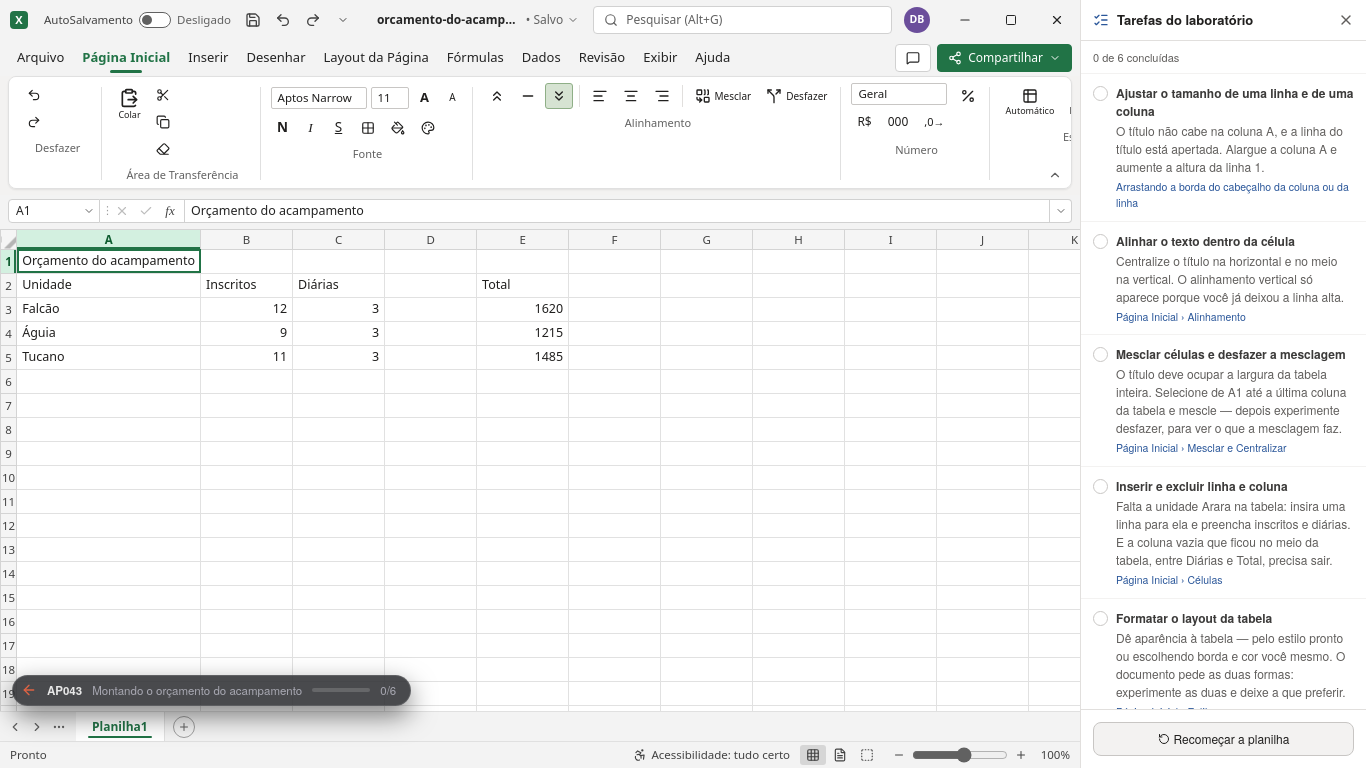
Test: a janela é a do Excel › o botão direito abre o menu de contexto da célula
The image size is (1366, 768).
Right-click the cell "Falcão" at coordinates (109, 309), box [17,297,201,321]
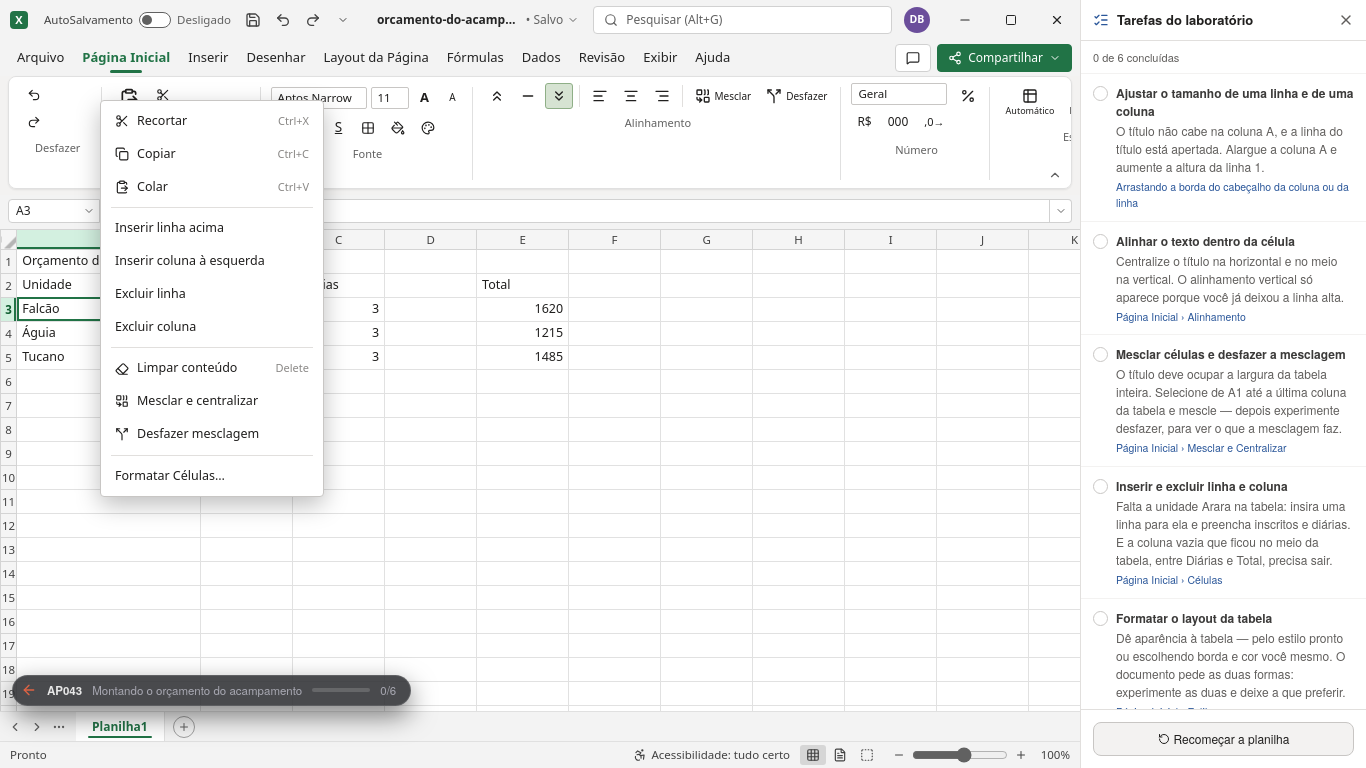
expect the menu is shown: met, box [100,100,324,497]
